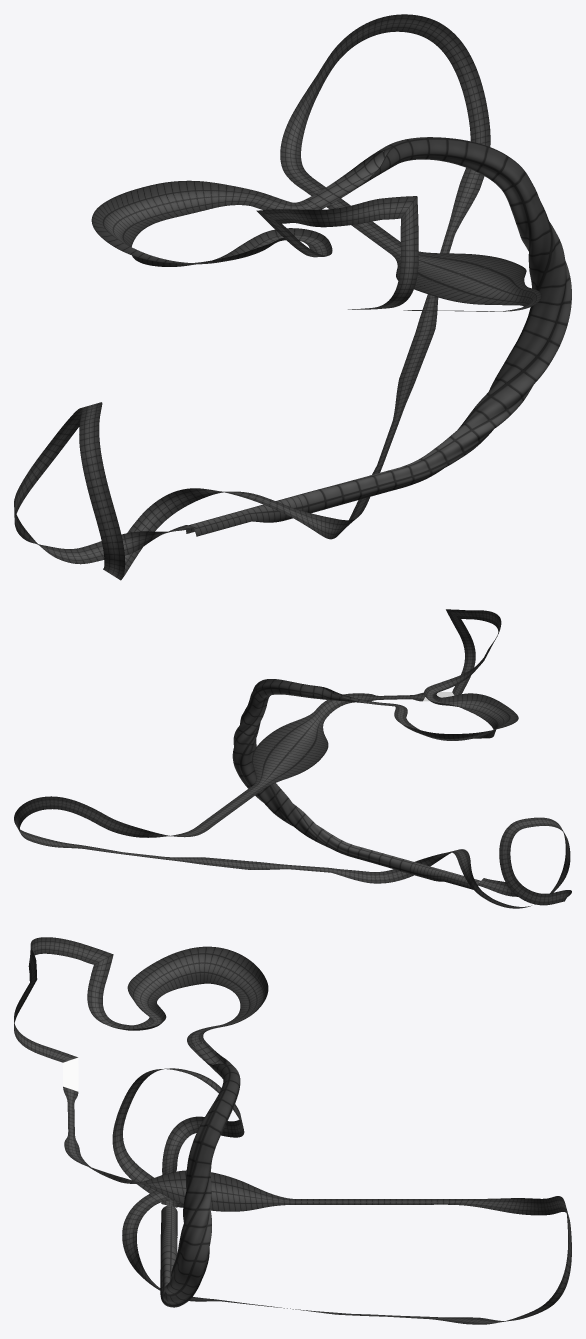
File: test_track.gltf
3 renders of one model, top to bottom at view 1: azimuth 30°, elevation 25°; view 2: azimuth 150°, elevation 25°; view 3: azimuth 270°, elevation 25°, orthographic. The views are drawn at different scales.
Visible parts, largest first — view 1: _MeshInstance3D_43835, _MeshInstance3D_53617, _MeshInstance3D_37492, _MeshInstance3D_308578, _MeshInstance3D_48611, _MeshInstance3D_34508, _MeshInstance3D_39974, _MeshInstance3D_67013, _MeshInstance3D_68643; view 2: _MeshInstance3D_43835, _MeshInstance3D_53617, _MeshInstance3D_308578, _MeshInstance3D_37492, _MeshInstance3D_39974, _MeshInstance3D_48611, _MeshInstance3D_67013, _MeshInstance3D_34508; view 3: _MeshInstance3D_43835, _MeshInstance3D_37492, _MeshInstance3D_53617, _MeshInstance3D_308578, _MeshInstance3D_34508, _MeshInstance3D_39974, _MeshInstance3D_48611.
Boxes of the visible parts, box(x1,y1,x2,y2) form: _MeshInstance3D_43835: box(14, 14, 490, 580); _MeshInstance3D_53617: box(301, 137, 571, 513); _MeshInstance3D_37492: box(91, 180, 332, 266); _MeshInstance3D_308578: box(391, 250, 541, 311); _MeshInstance3D_48611: box(307, 145, 399, 208); _MeshInstance3D_34508: box(278, 198, 384, 227); _MeshInstance3D_39974: box(186, 494, 308, 536); _MeshInstance3D_67013: box(373, 250, 418, 308); _MeshInstance3D_68643: box(400, 196, 418, 250); _MeshInstance3D_43835: box(14, 785, 571, 908); _MeshInstance3D_53617: box(232, 679, 414, 874); _MeshInstance3D_308578: box(252, 692, 424, 788); _MeshInstance3D_37492: box(384, 663, 518, 740); _MeshInstance3D_39974: box(410, 862, 480, 889); _MeshInstance3D_48611: box(313, 686, 385, 705); _MeshInstance3D_67013: box(458, 632, 475, 680); _MeshInstance3D_34508: box(467, 610, 501, 649); _MeshInstance3D_43835: box(112, 1068, 571, 1324); _MeshInstance3D_37492: box(87, 946, 268, 1047); _MeshInstance3D_53617: box(160, 1065, 240, 1307); _MeshInstance3D_308578: box(63, 1086, 295, 1211); _MeshInstance3D_34508: box(28, 937, 84, 972); _MeshInstance3D_39974: box(160, 1205, 177, 1250); _MeshInstance3D_48611: box(191, 1041, 232, 1078).
Size of the model in its own units: 3368 by 1899 by 3000.
2 materials, 1 textured.
